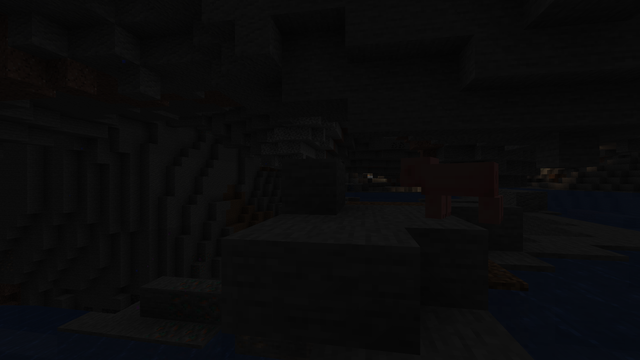cochons: (423, 160, 504, 223)
